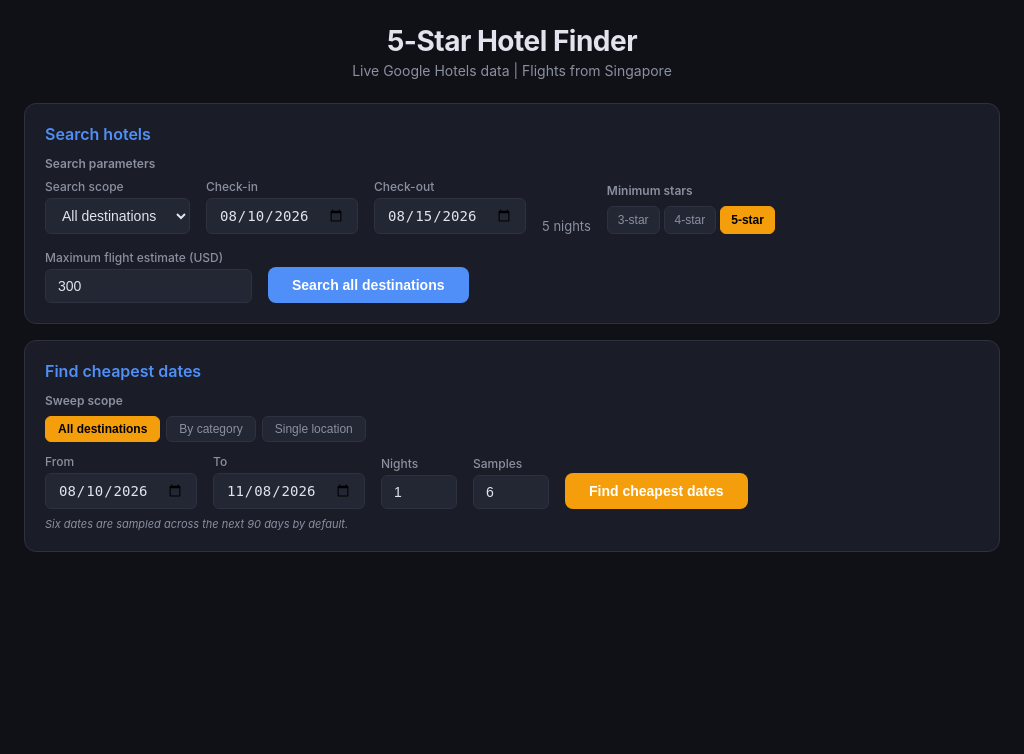
Test case: latest search and comparison ownership › preserves search partial warnings after a successful provider comparison
expect the button "Find cheapest dates" is enabled: met, box [565,473,748,509]
What coordinates should you click on to do the following:
click the button "Search all destinations"
I would click on:
 (368, 285)
Its box is [268,267,468,303].
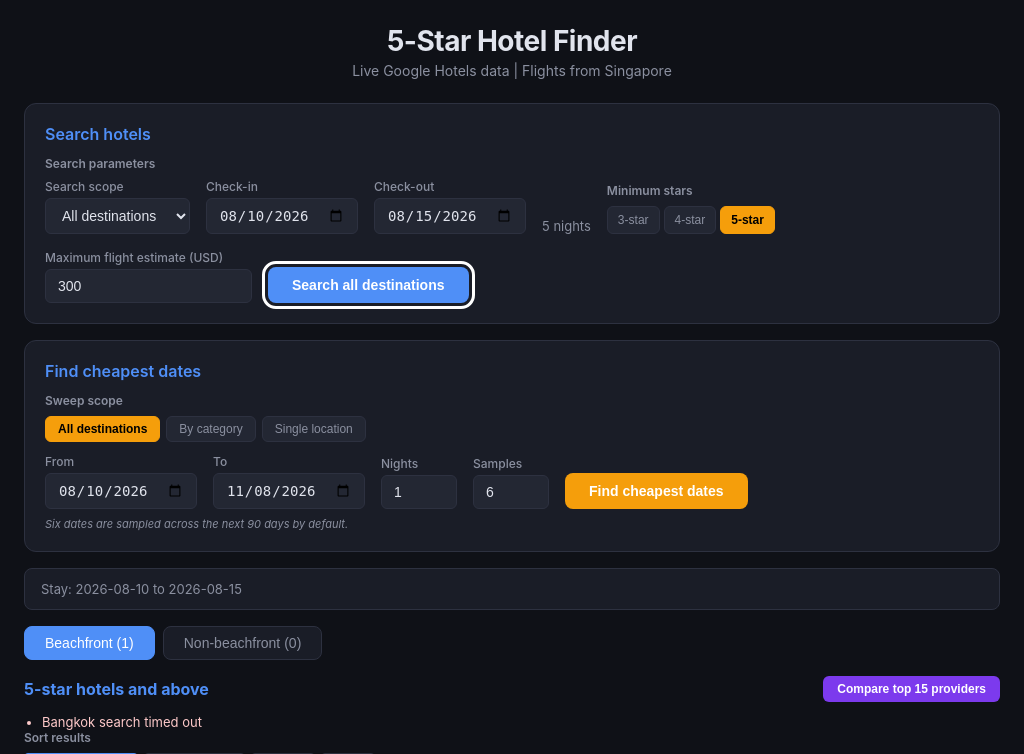
expect the list item "Bangkok search timed out" is shown: met, box [42,714,202,730]
What coordinates should you click on to do the following:
click the button "Compare top 15 providers"
I would click on:
 (912, 689)
Its box is [823,676,1000,702].
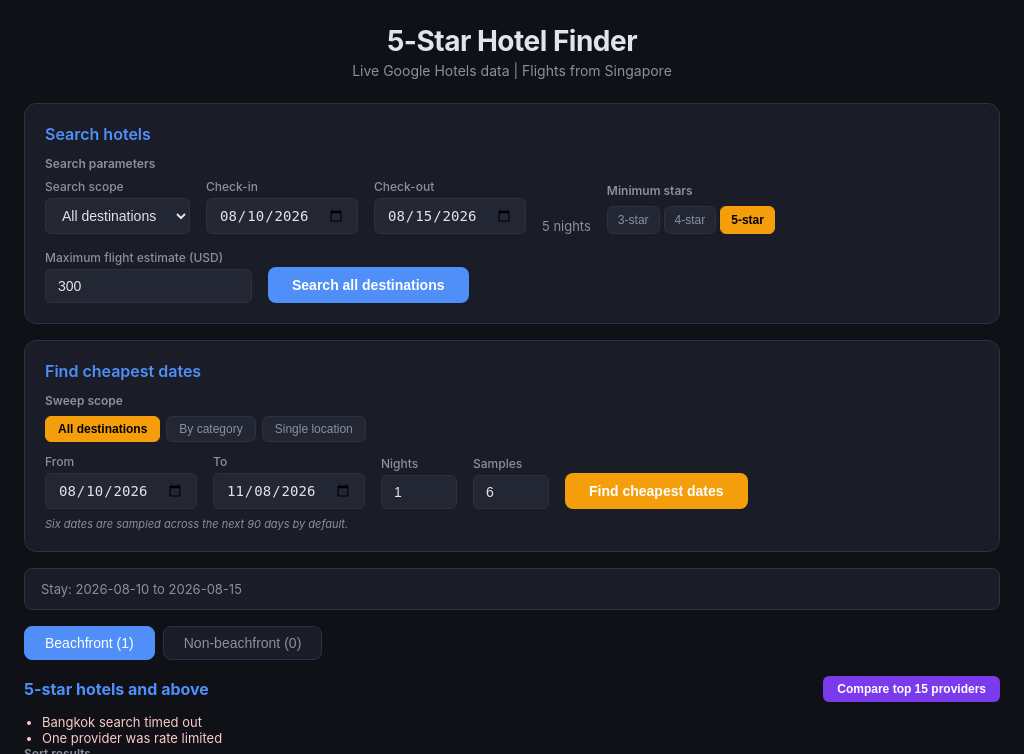
expect the list named "Search warnings" shows "Bangkok search timed out": met, box [42,714,202,730]
expect the number of list items is 2: met, box [42,714,202,730]; [42,730,222,746]
expect the list named "Search warnings" shows "One provider was rate limited": met, box [42,730,222,746]
